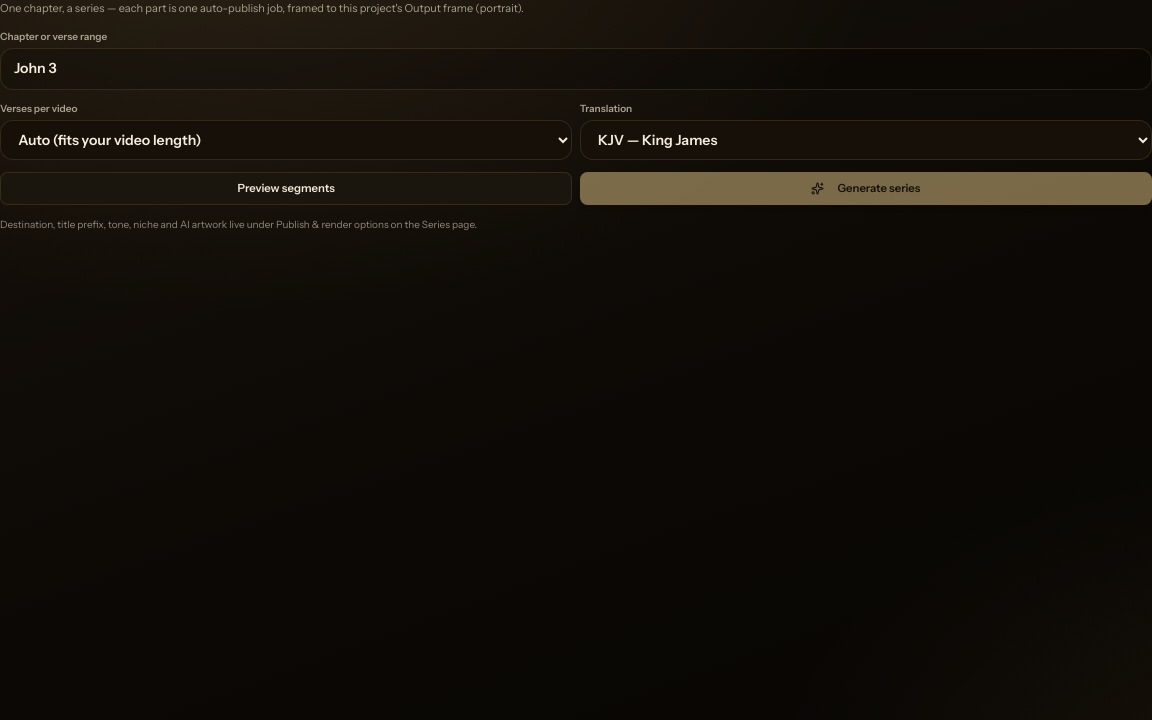
Test case: SeriesQuickPanel › previews the verse partition and shows EVERY segment in full
What coordinates should you click on to do the following:
click the button "Preview segments"
I would click on:
 (286, 189)
Its box is [0,172,572,206].
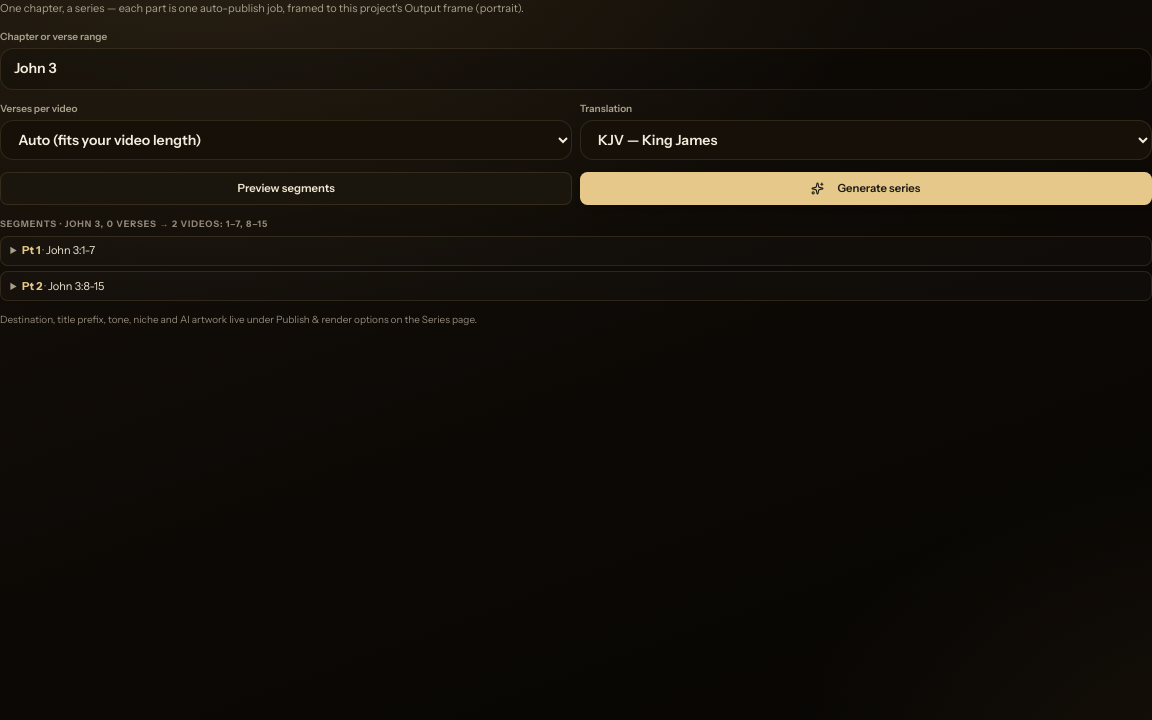
Check: the text "John 3:1-7" is shown, box [46,244,95,258]
